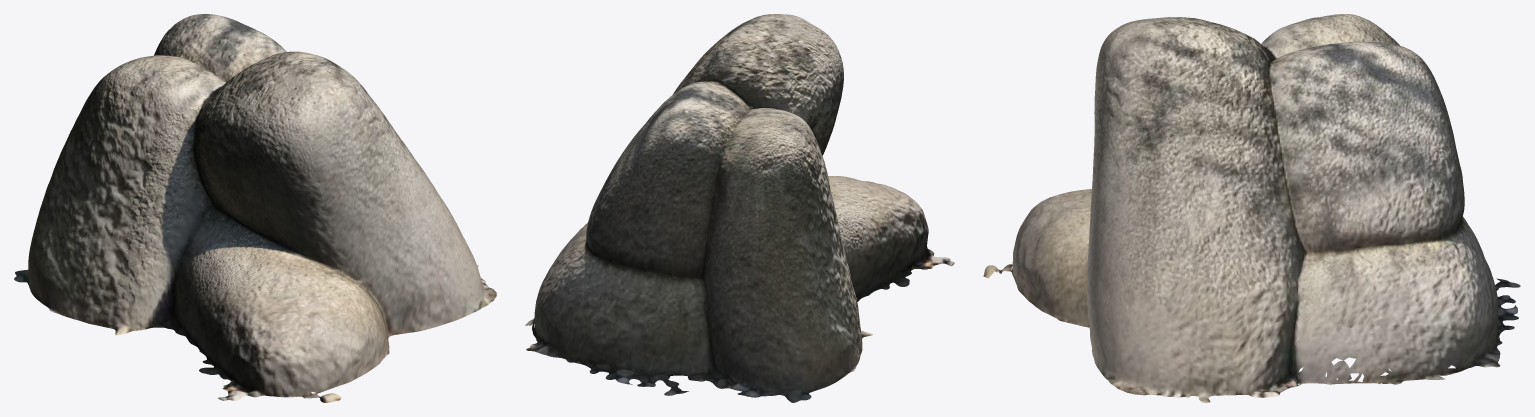
File: preview.glb
3 views of the same model, side by side, from view 1: azimuth 30°, elevation 25°; view 2: azimuth 150°, elevation 25°; view 3: azimuth 270°, elevation 25° (orthographic). The views are drawn at different scales.
Visible parts, largest first — view 1: Object_2; view 2: Object_2; view 3: Object_2.
Boxes of the visible parts, bbox=[...] form: Object_2: bbox=[14, 14, 496, 402]; Object_2: bbox=[525, 14, 954, 402]; Object_2: bbox=[983, 14, 1520, 402].
Size of the model in its own units: 0.7648 by 0.5381 by 0.9099.
1 material, 1 textured.
